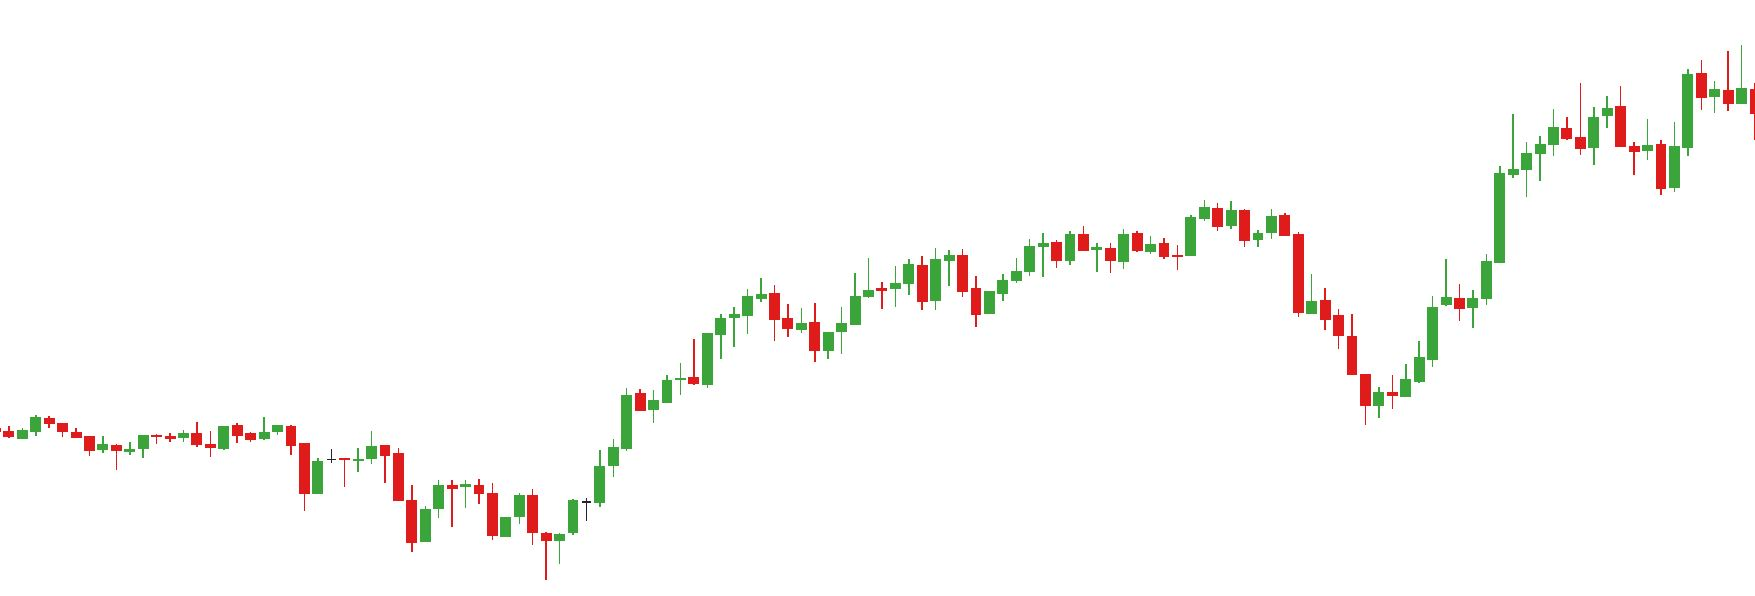buy: (404, 493, 566, 579)
sell: (1116, 198, 1224, 250)
